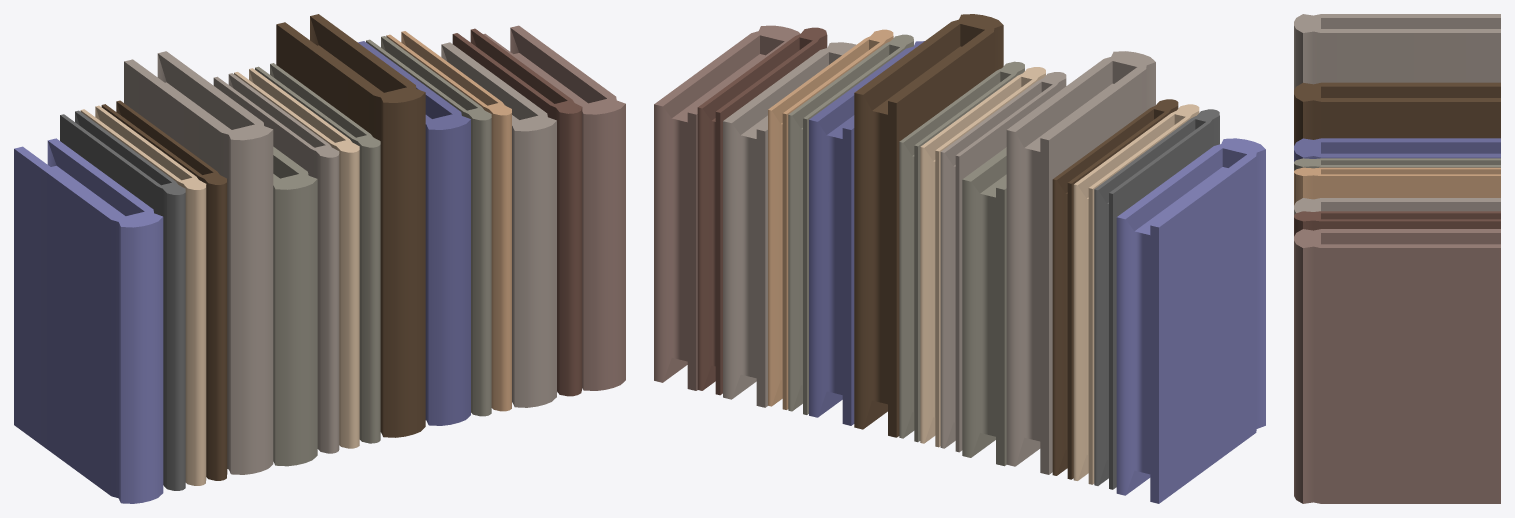
The model's file is colored set book3 bedroom.fbx.
3 renders of one model, left to right at view 1: azimuth 30°, elevation 25°; view 2: azimuth 150°, elevation 25°; view 3: azimuth 270°, elevation 25°, orthographic. The views are drawn at different scales.
Parts seen in each view (by area): view 1: pCube16, pCube7, pCube2, pCube12, pCube1, pCube10, pCube6, pCube14, pCube11, pCube5, pCube15, pCube3 (+4 smaller); view 2: pCube16, pCube7, pCube2, pCube12, pCube10, pCube1, pCube6, pCube14, pCube11, pCube5, pCube15, pCube3 (+4 smaller); view 3: pCube12, pCube7, pCube2, pCube9, pCube1, pCube11, pCube10, pCube8.
Boxes of the visible parts, <box> form: pCube16: <box>14,138,163,503</box>; pCube7: <box>124,51,273,474</box>; pCube2: <box>276,14,425,437</box>; pCube12: <box>483,25,625,390</box>; pCube1: <box>358,41,470,425</box>; pCube10: <box>441,42,556,407</box>; pCube6: <box>273,146,317,466</box>; pCube14: <box>60,110,185,490</box>; pCube11: <box>452,28,582,396</box>; pCube5: <box>213,73,339,453</box>; pCube15: <box>101,100,227,480</box>; pCube3: <box>255,63,380,443</box>; pCube16: <box>1116,138,1265,503</box>; pCube7: <box>1006,51,1155,474</box>; pCube2: <box>854,14,1003,437</box>; pCube12: <box>654,25,800,390</box>; pCube10: <box>723,42,856,407</box>; pCube1: <box>809,41,924,425</box>; pCube6: <box>962,147,1006,466</box>; pCube14: <box>1094,109,1219,489</box>; pCube11: <box>697,27,827,395</box>; pCube5: <box>940,72,1066,452</box>; pCube15: <box>1052,99,1178,479</box>; pCube3: <box>899,61,1024,442</box>; pCube12: <box>1294,229,1500,503</box>; pCube7: <box>1294,14,1500,89</box>; pCube2: <box>1294,82,1500,145</box>; pCube9: <box>1294,167,1500,205</box>; pCube1: <box>1294,138,1500,161</box>; pCube11: <box>1294,211,1500,236</box>; pCube10: <box>1294,198,1500,214</box>; pCube8: <box>1294,158,1500,170</box>.
Size of the model in its own units: 0.2751 by 0.1753 by 0.1054.
